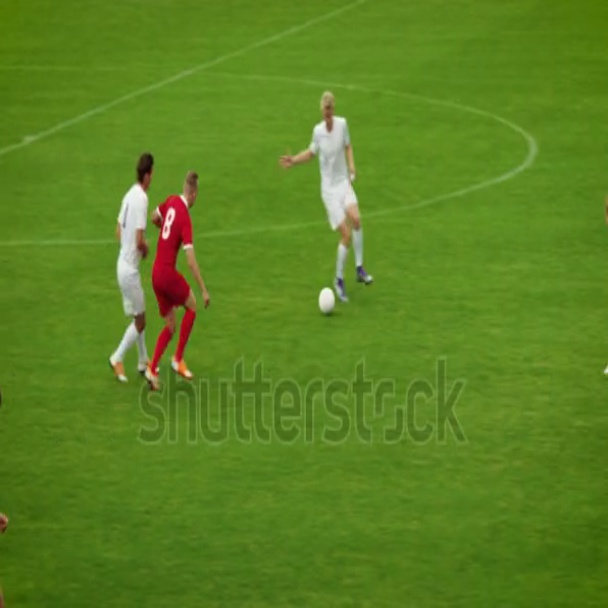ball: (320, 285, 338, 321)
